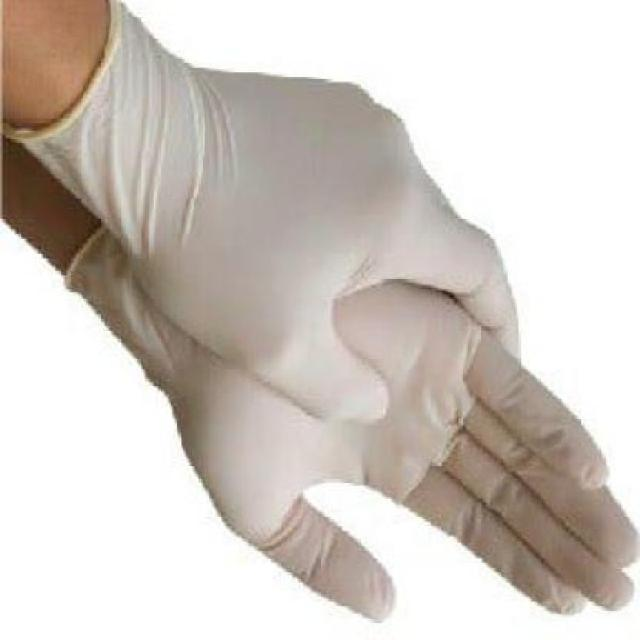gloved_hand: (39, 56, 638, 626)
